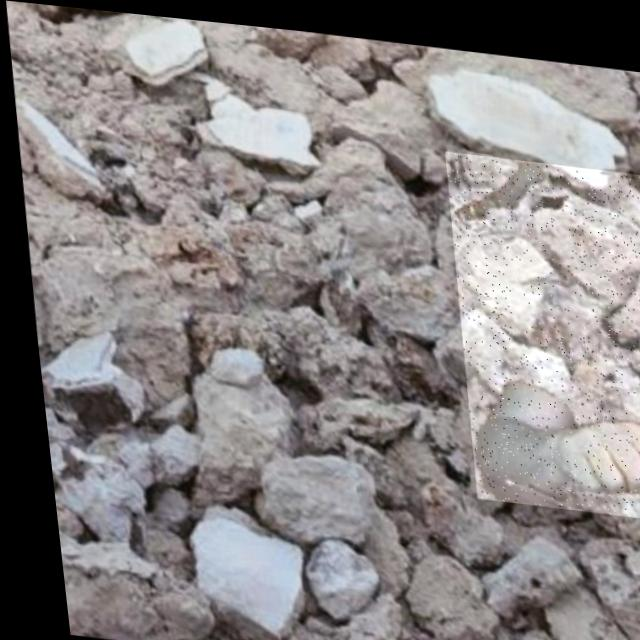Person in Rubble: (436, 141, 640, 509)
